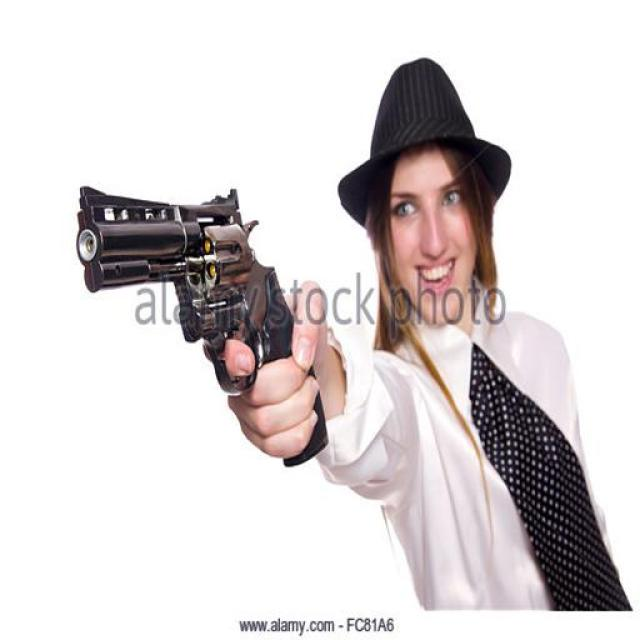pistol: (73, 177, 329, 467)
